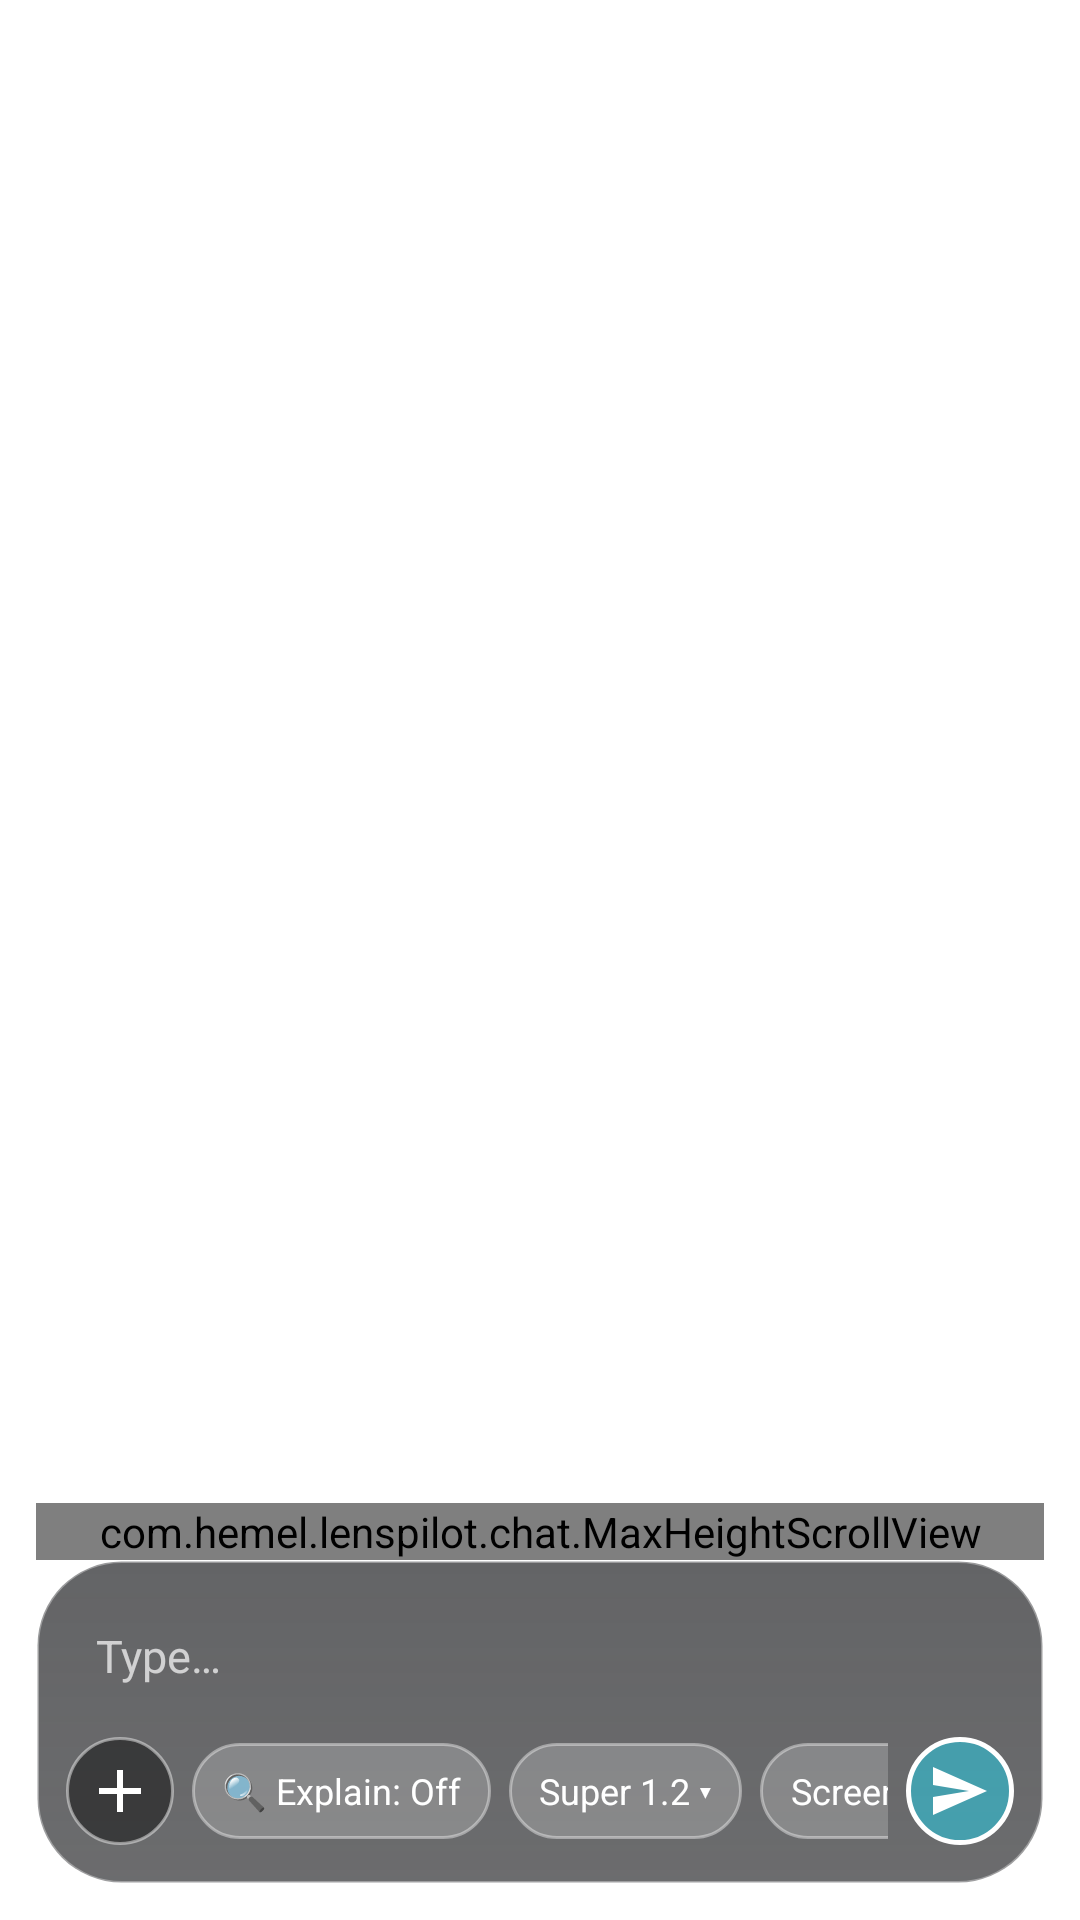

Named icons in this screenshot (1080×1920) and their centers, (x,y):
Attach a photo, video or file: (120,1791)
Send: (960,1791)
